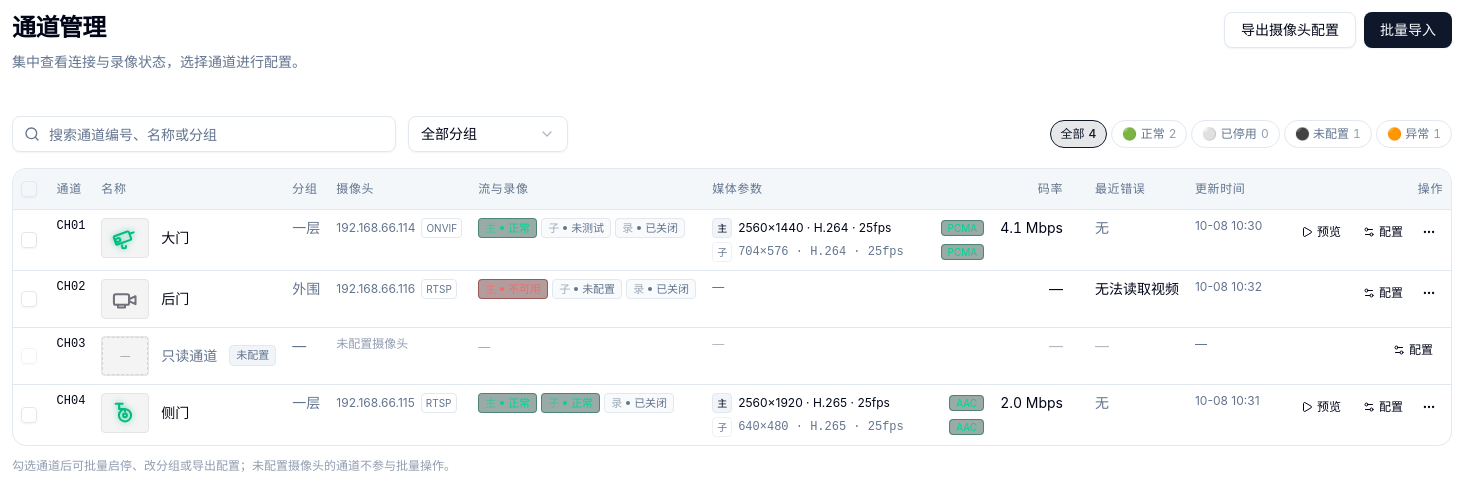
Test case: unconfigured rows cannot be selected and expose no enable toggle
Expected: the row with test id "channel-row" shows "未配置", [236,348,269,362]
Expected: the row with test id "channel-row" shows "未配置摄像头", [336,336,408,350]
What coordinates should you click on to do the following:
click the button named "更多 CH01"
I would click on:
 (1429, 232)
Its box is [1415,218,1443,246].
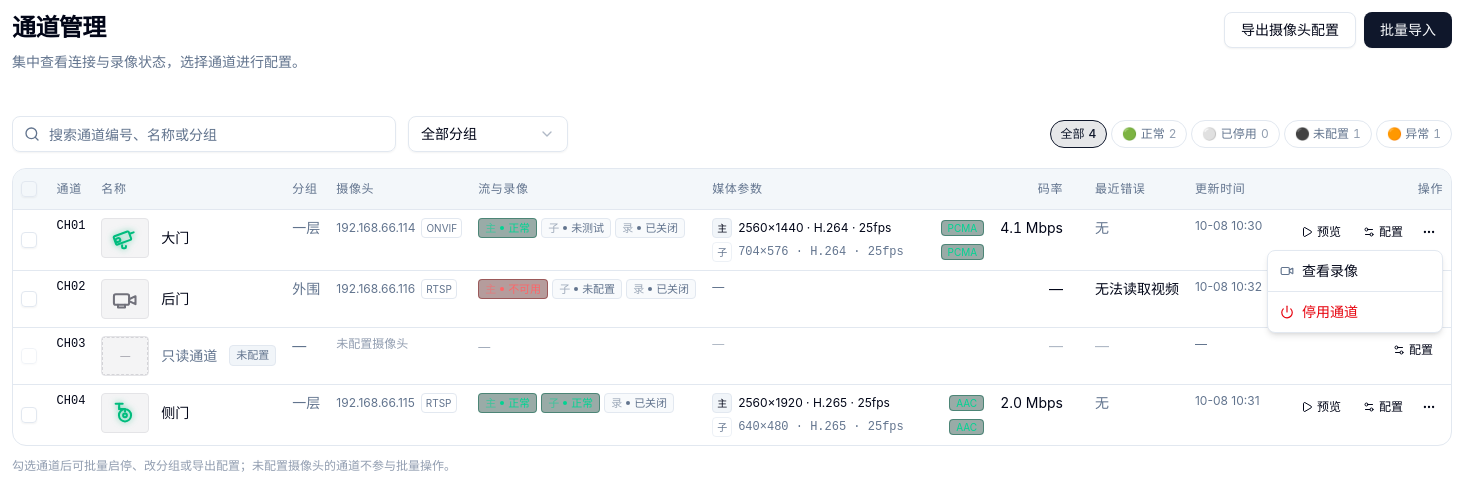
Expected: the menu item with aria-label "停用 CH01" is shown, [1280,303,1358,320]
